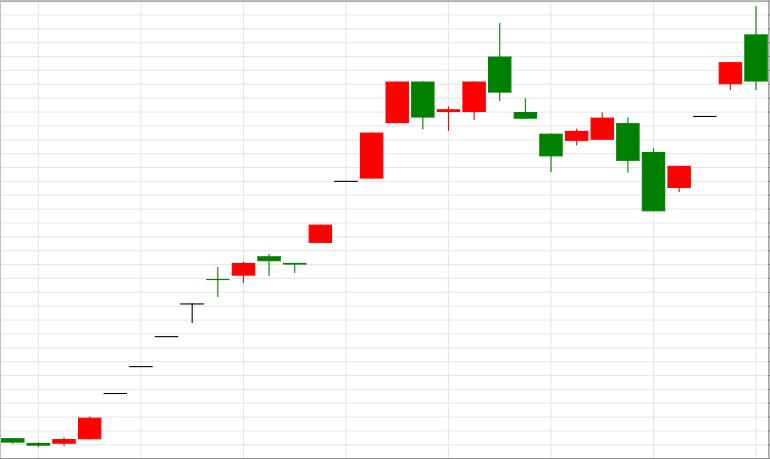shooting_star_fall: (308, 23, 511, 244)
